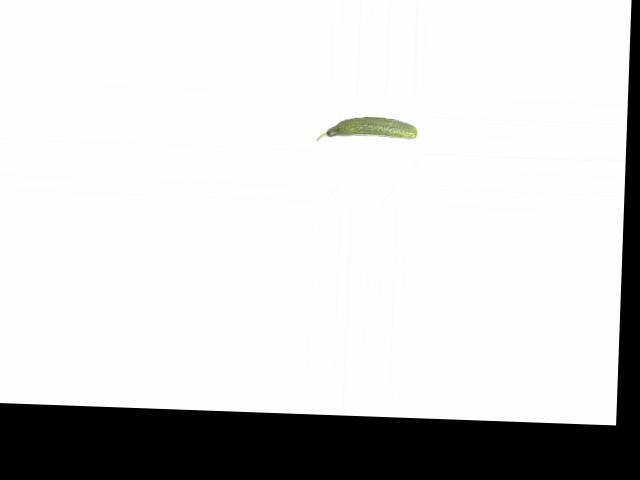cucumber: (315, 115, 417, 144)
